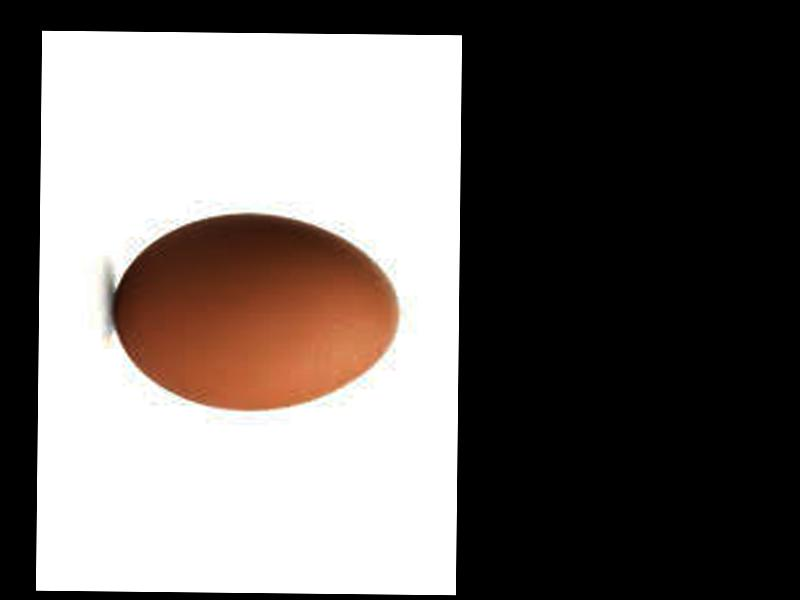Eggs: (111, 213, 396, 409)
